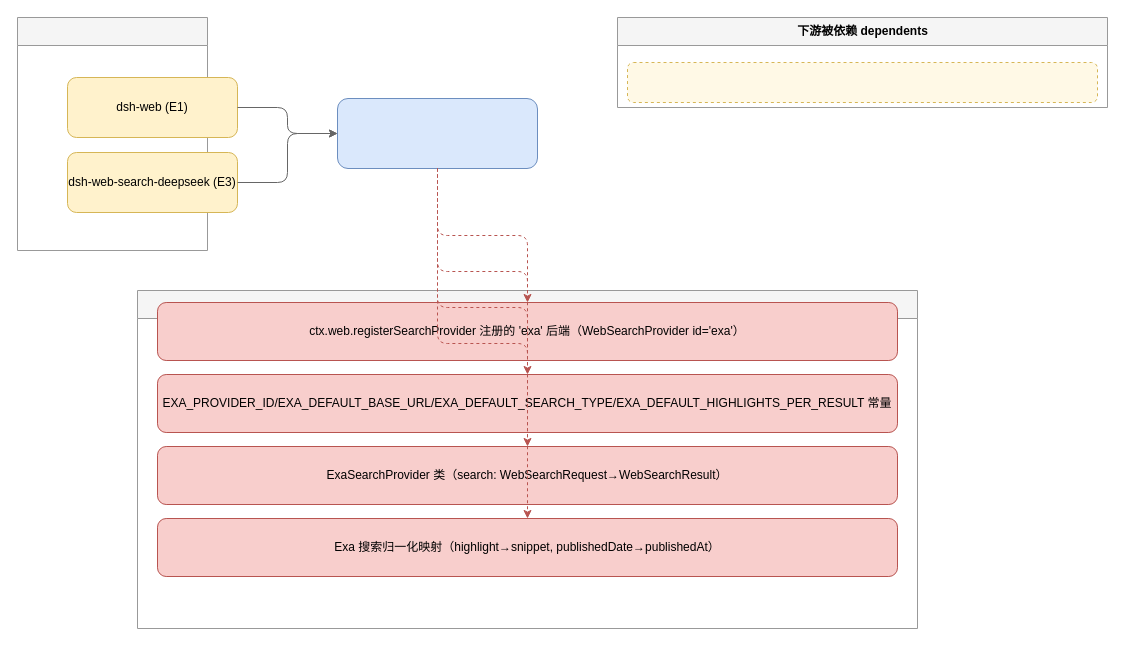
The diagram is 1125 pixels wide and 646 high, and some of its shapes have lost their labels. Here are the shapes that lost their labels. From the top down, the box of each, then its label:
(626, 62, 1098, 102): … 无下游依赖（L3 扩展点，共 0 个）
(16, 16, 208, 250): 上游依赖 upstream (E1/E2/E3)
(336, 98, 538, 168): @deepseek-ai/dsh-web-search-exa
(136, 290, 918, 628): 提供服务 provides（关键项）
